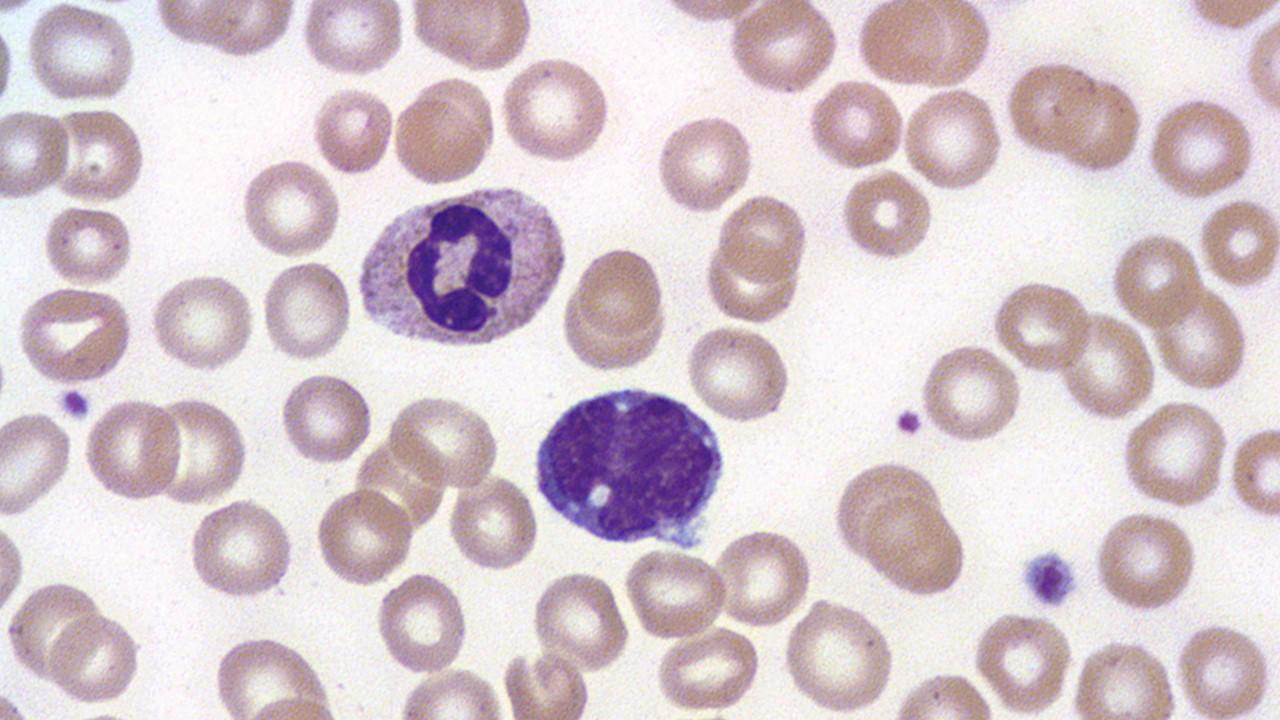Platelets: (1014, 545, 1080, 609), (891, 402, 927, 441), (55, 386, 93, 422)
RBC: (782, 596, 898, 716), (830, 457, 948, 566), (1118, 398, 1232, 510), (13, 284, 138, 386), (499, 55, 614, 165), (1144, 96, 1258, 200), (187, 495, 296, 603), (23, 3, 140, 103), (2, 578, 109, 686), (899, 86, 1006, 194), (1092, 509, 1200, 616), (384, 393, 503, 489), (1056, 308, 1156, 422), (862, 495, 970, 600), (148, 270, 257, 374), (684, 322, 794, 425), (916, 341, 1023, 446), (151, 392, 251, 504), (653, 109, 757, 216), (82, 394, 183, 504), (972, 610, 1076, 716), (528, 567, 632, 673), (712, 526, 818, 630), (1148, 284, 1250, 392), (724, 2, 842, 95), (312, 485, 416, 589), (210, 632, 331, 720), (990, 276, 1094, 377), (1171, 618, 1277, 717), (239, 157, 342, 258), (45, 105, 148, 205), (372, 570, 471, 674), (258, 258, 355, 363), (652, 624, 764, 714), (622, 545, 728, 640), (277, 368, 376, 468), (1004, 59, 1100, 161), (804, 79, 908, 172), (445, 474, 541, 574), (836, 168, 935, 264), (390, 94, 491, 188), (47, 610, 144, 707), (1109, 228, 1203, 328), (1070, 635, 1182, 718), (407, 2, 535, 72), (1054, 75, 1144, 174), (701, 238, 802, 326), (574, 242, 664, 338), (718, 192, 812, 283), (852, 0, 948, 87), (0, 409, 74, 521), (301, 1, 407, 79), (310, 83, 395, 180), (39, 205, 137, 288), (1197, 196, 1279, 292), (0, 105, 74, 202), (915, 1, 995, 90), (500, 647, 592, 720), (200, 1, 296, 60), (1227, 424, 1279, 524), (149, 1, 250, 50), (1243, 9, 1279, 125), (1, 512, 26, 628), (0, 6, 18, 121)
WBC: (350, 178, 570, 357), (525, 377, 733, 550)
